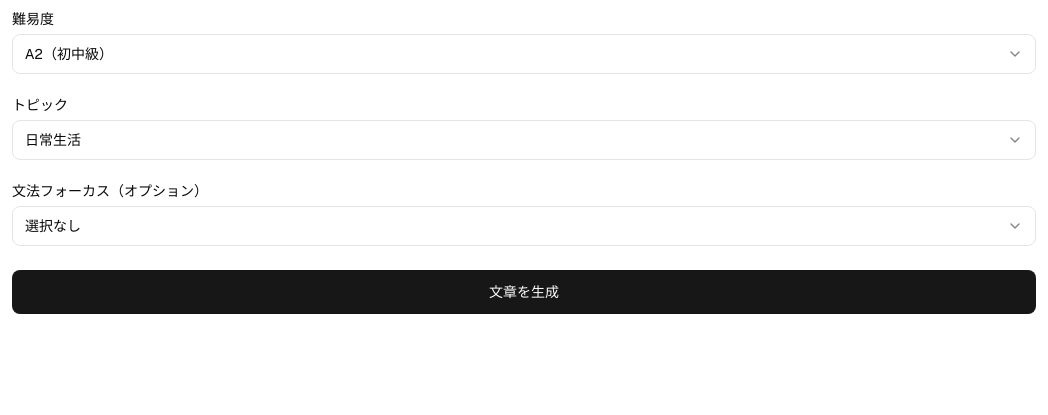
ReadingSettings › passage generation (API calls) › displays default error message when API throws generic error
The width and height of the screenshot is (1048, 415).
What coordinates should you click on to do the following:
click the button "文章を生成"
I would click on:
 (524, 292)
Its box is [12, 270, 1036, 314].
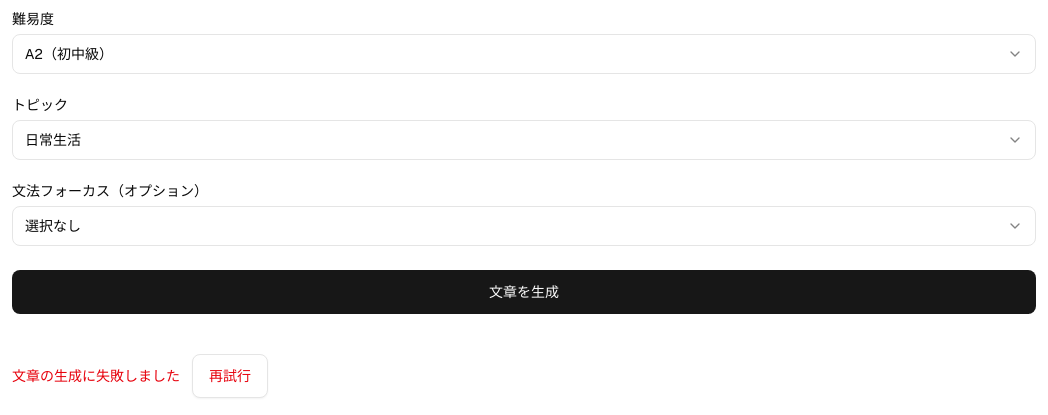
Result: the message with test id "error-message" shows "文章の生成に失敗しました" at [12, 367, 180, 385]
